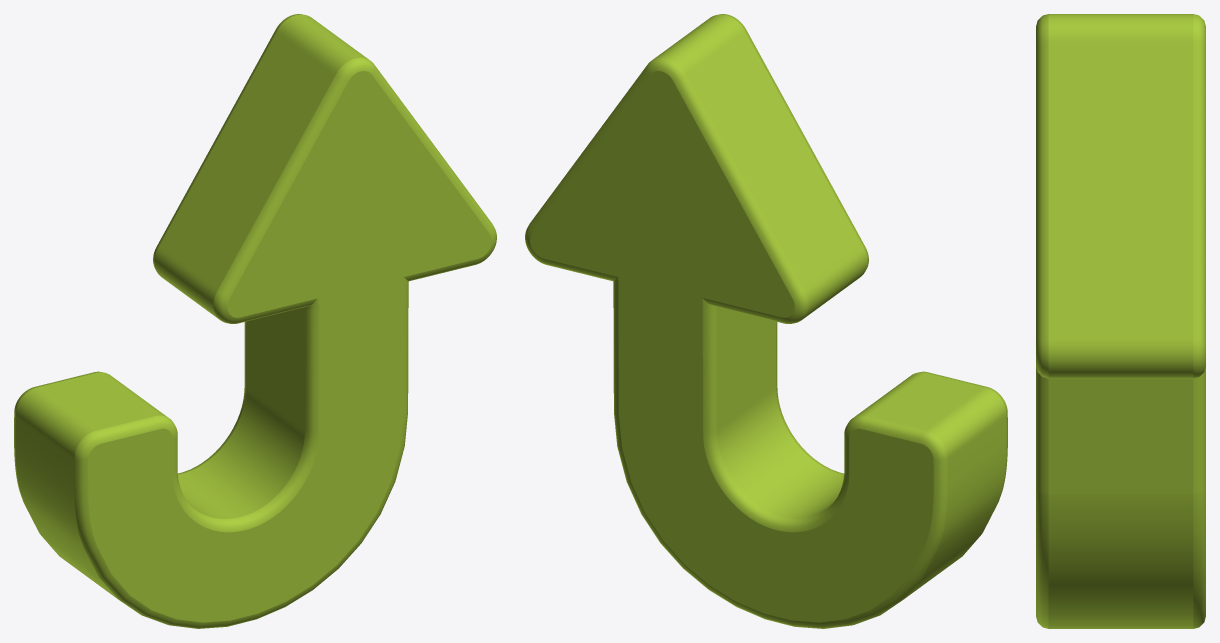
The model's file is undoProp.FBX.
The picture shows the model from 3 angles, left to right: view 1: azimuth 30°, elevation 25°; view 2: azimuth 150°, elevation 25°; view 3: azimuth 270°, elevation 25°; orthographic projection. The views are drawn at different scales.
Visible parts, largest first — view 1: 放样_2; view 2: 放样_2; view 3: 放样_2.
Part boxes in pixels (bbox=[...]): 放样_2: bbox=[14, 14, 496, 628]; 放样_2: bbox=[525, 14, 1007, 628]; 放样_2: bbox=[1036, 14, 1205, 628].
Size of the model in its own units: 2.37 by 2.89 by 0.6753.
